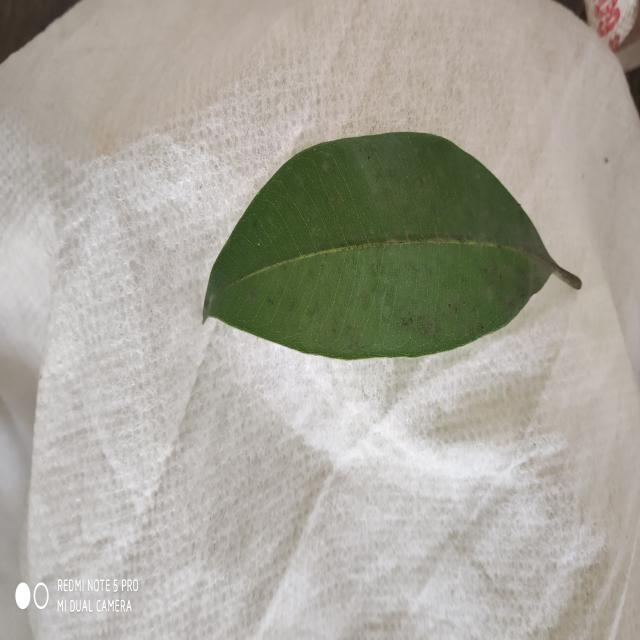sapota: (202, 133, 568, 360)
